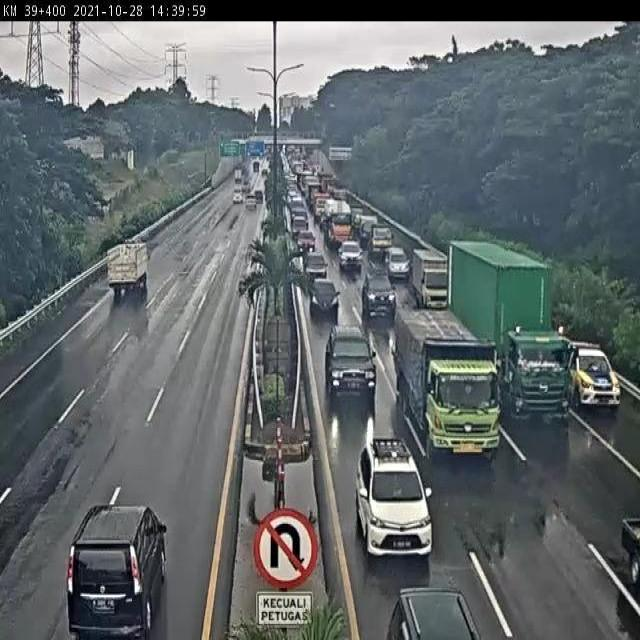big truck: (443, 238, 563, 422), (394, 306, 503, 458)
car: (67, 502, 167, 640), (356, 439, 433, 557), (326, 324, 375, 396), (567, 340, 619, 407), (362, 269, 398, 316), (309, 276, 338, 311), (384, 243, 409, 276), (337, 237, 363, 268), (369, 224, 394, 256), (302, 248, 324, 275)
mid truck: (105, 240, 149, 296)
small truck: (412, 251, 452, 308)
